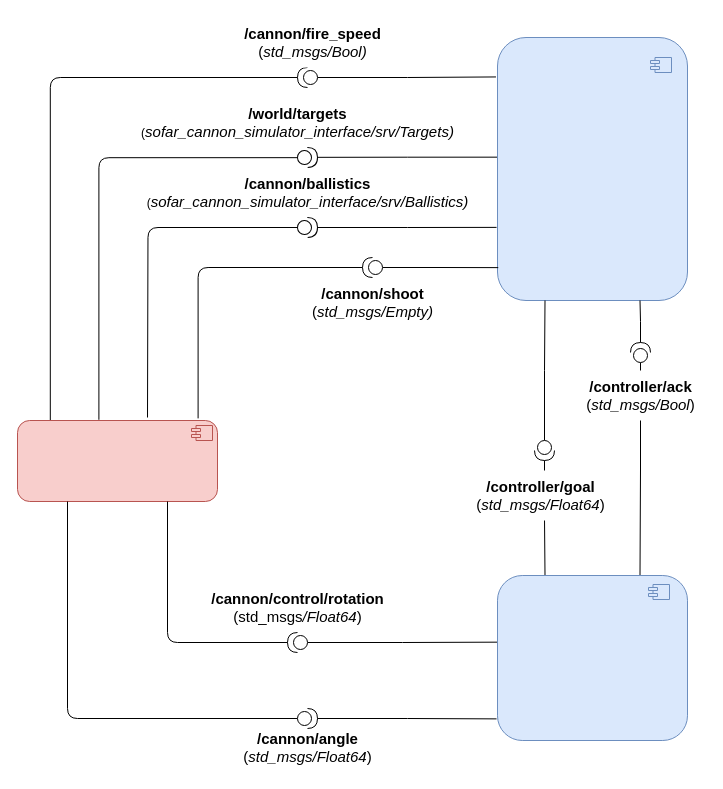
This 723x789 diagram has some shape labels left out. Here are the shapes that lost their labels. From the top down, the centre of each, then its label:
pixel 592 168: Cannon Logic
pixel 117 461: Cannon Sim Node
pixel 592 657: Cannon Controller
